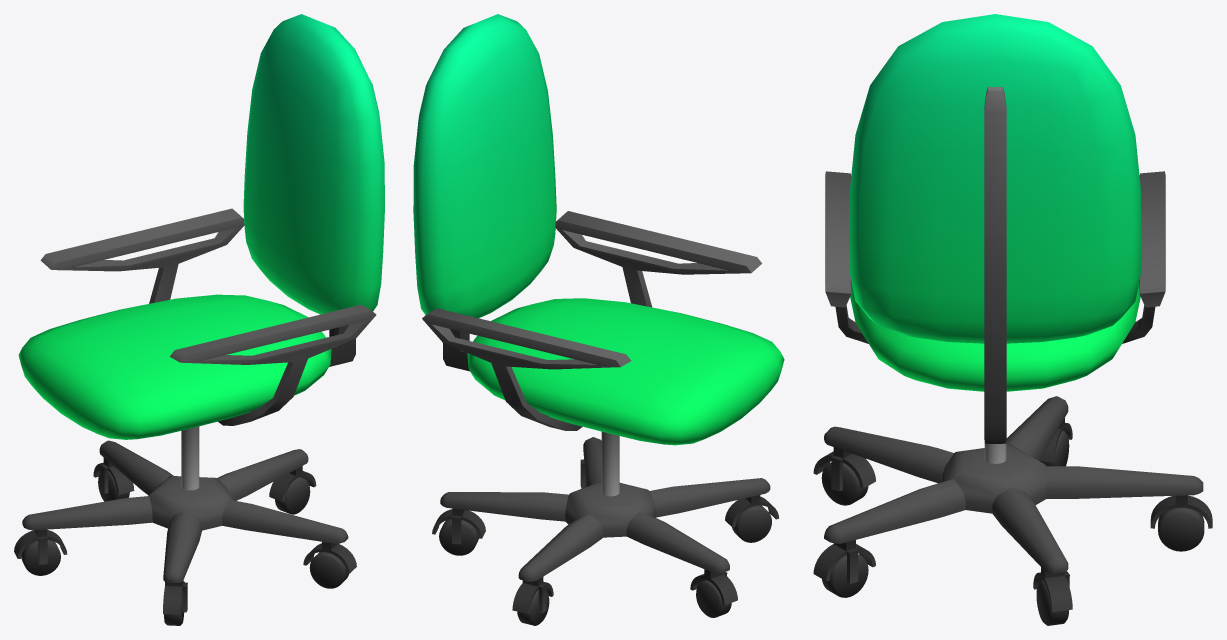
The model's file is SM_SillaConRuedas.fbx.
The picture shows the model from 3 angles, left to right: view 1: azimuth 30°, elevation 25°; view 2: azimuth 150°, elevation 25°; view 3: azimuth 270°, elevation 25°; orthographic projection. The views are drawn at different scales.
Parts seen in each view (by area): view 1: SillaConRuedas; view 2: SillaConRuedas; view 3: SillaConRuedas.
Boxes of the visible parts, x1,y1,x2,y2 form: SillaConRuedas: (14,14,384,625); SillaConRuedas: (413,14,784,625); SillaConRuedas: (813,14,1212,625).
Bounding box in the file's own units: 98.24 × 150 × 88.43.
